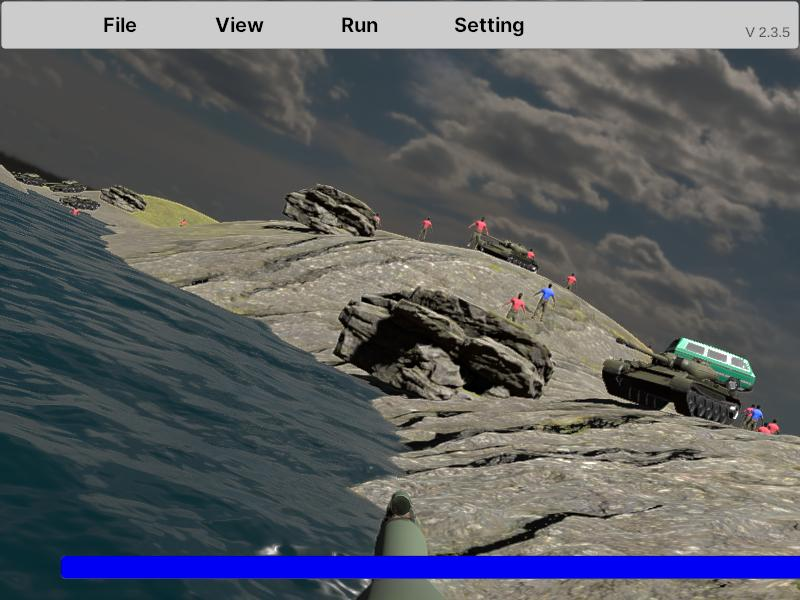Human: (506, 290, 528, 343), (533, 282, 556, 323), (470, 216, 490, 256)
Tank: (602, 342, 744, 427), (43, 195, 101, 211)
car: (673, 338, 755, 402)
